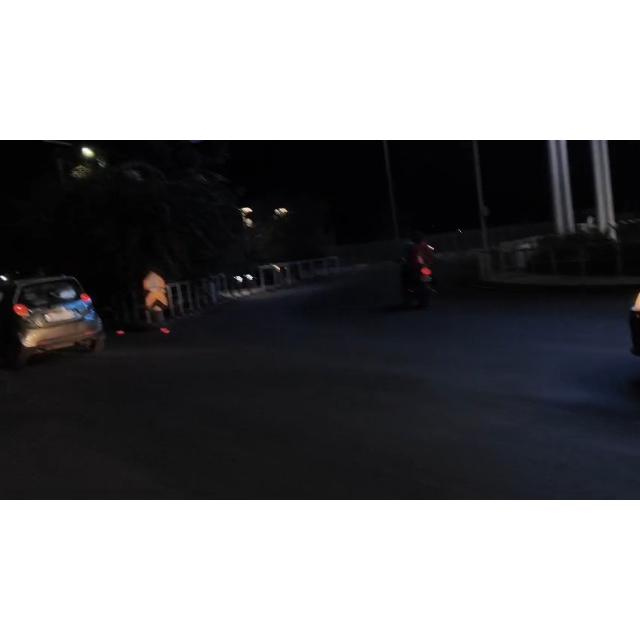car: (3, 277, 125, 363)
